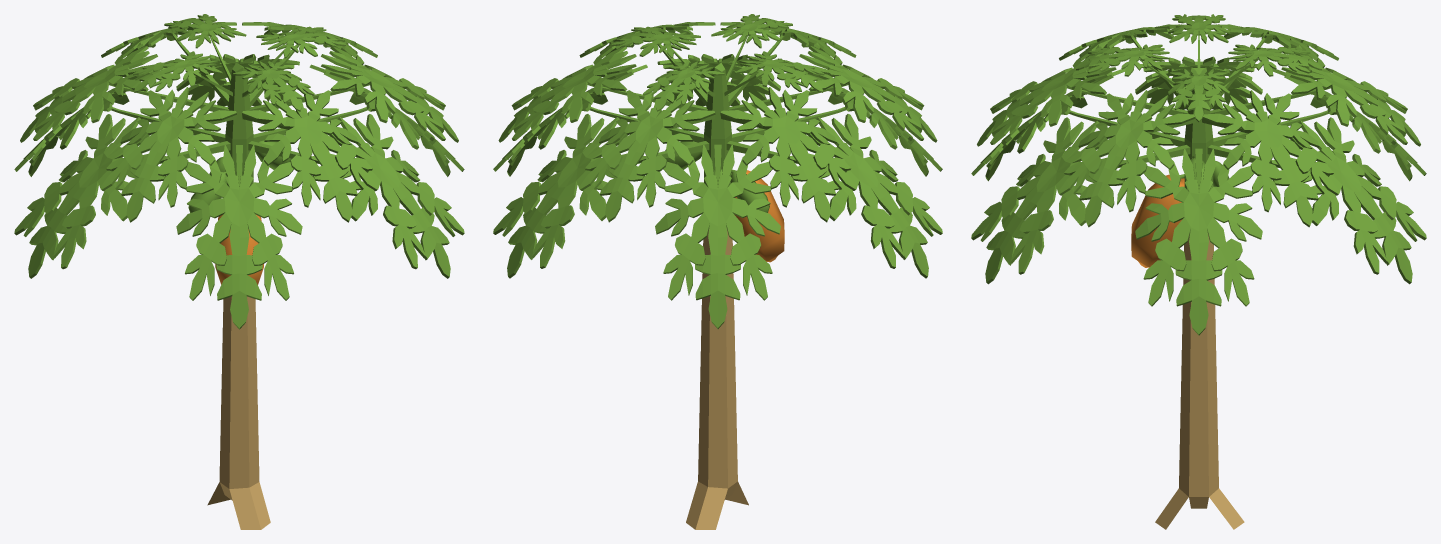
Rendered from PapayaTree.fbx.
The picture shows the model from 3 angles, left to right: view 1: azimuth 30°, elevation 25°; view 2: azimuth 150°, elevation 25°; view 3: azimuth 270°, elevation 25°; orthographic projection.
Parts seen in each view (by area): view 1: PapayaTreeLeaves, PapayaTreeLeaves.001, Stem, PapayaTreeLeaves.002, HigherStem, GrownPapaya; view 2: PapayaTreeLeaves, PapayaTreeLeaves.001, Stem, PapayaTreeLeaves.002, HigherStem, GrownPapaya; view 3: PapayaTreeLeaves, PapayaTreeLeaves.001, Stem, PapayaTreeLeaves.002, GrownPapaya, HigherStem.
Part boxes in pixels (x1,y1,x2,y2): PapayaTreeLeaves: (14,54,464,329); PapayaTreeLeaves.001: (20,22,458,222); Stem: (207,134,270,529); PapayaTreeLeaves.002: (133,14,345,111); HigherStem: (225,63,253,139); GrownPapaya: (215,215,263,284); PapayaTreeLeaves: (493,54,942,328); PapayaTreeLeaves.001: (498,22,937,222); Stem: (686,134,748,529); PapayaTreeLeaves.002: (611,14,824,111); HigherStem: (704,62,731,138); GrownPapaya: (732,169,784,262); PapayaTreeLeaves: (971,56,1426,335); PapayaTreeLeaves.001: (977,24,1420,227); Stem: (1155,138,1244,529); PapayaTreeLeaves.002: (1076,14,1321,121); GrownPapaya: (1131,174,1184,267); HigherStem: (1185,68,1212,142).
Size of the model in its own units: 540 by 569 by 501.
